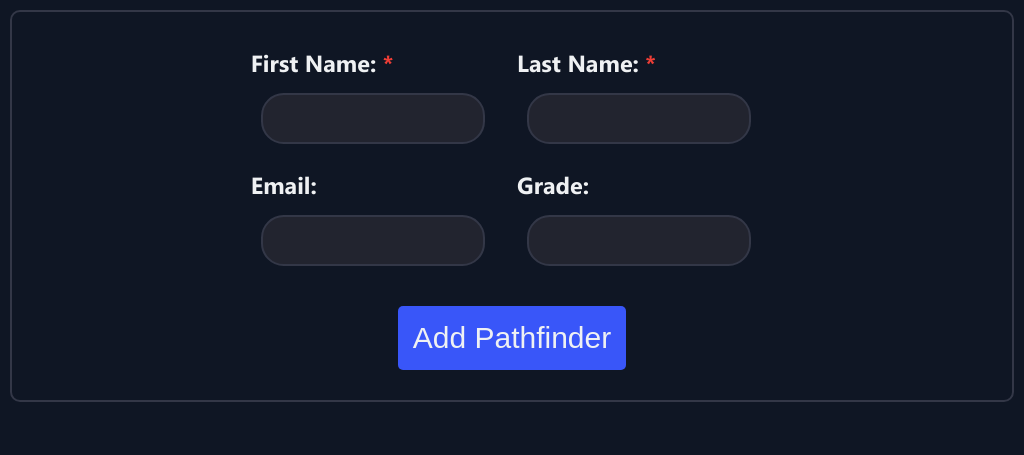
Test: CreatePathfinderForm › Form validation › should show error for invalid email
Type "John" into the field below "First Name:".
click(373, 118); type("John")  # box [261,93,485,144]
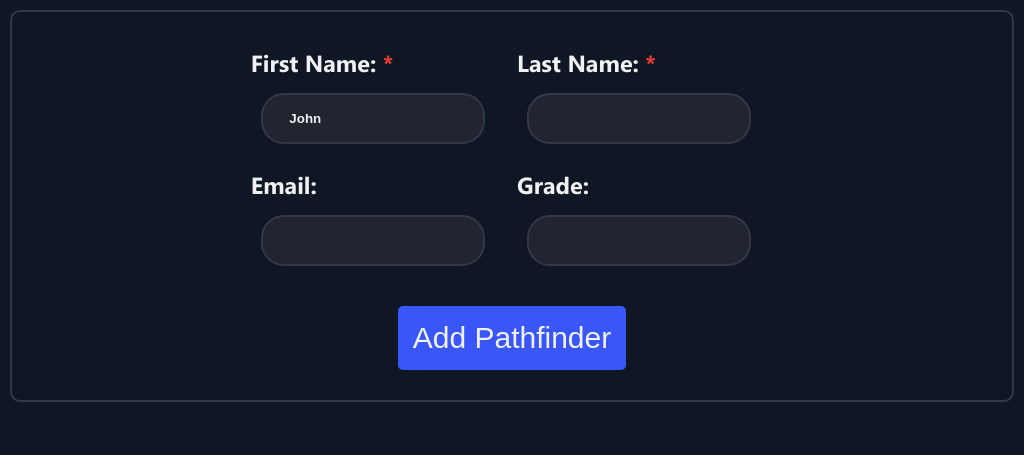
Type "Doe" into the field below "Last Name:".
click(639, 118); type("Doe")  # box [527,93,751,144]
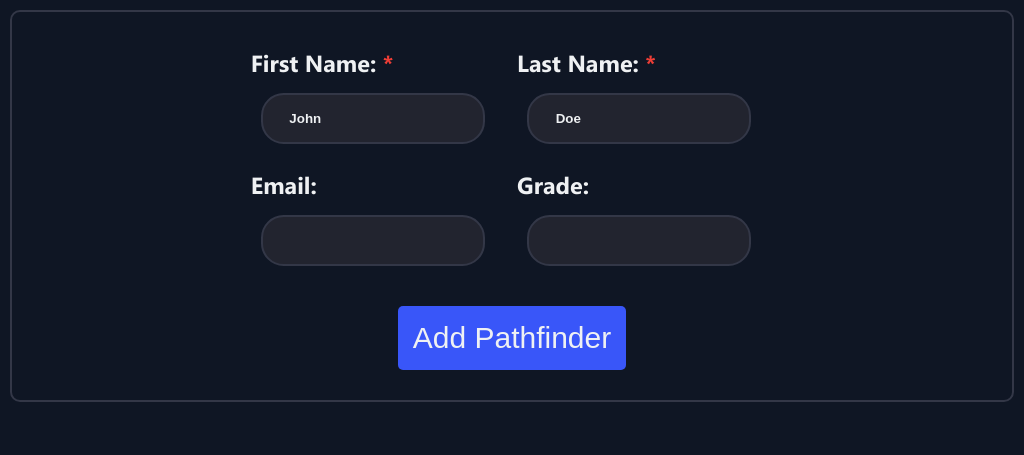
Type "invalid-email" into the field below "Email:".
click(373, 240); type("invalid-email")  # box [261,215,485,266]
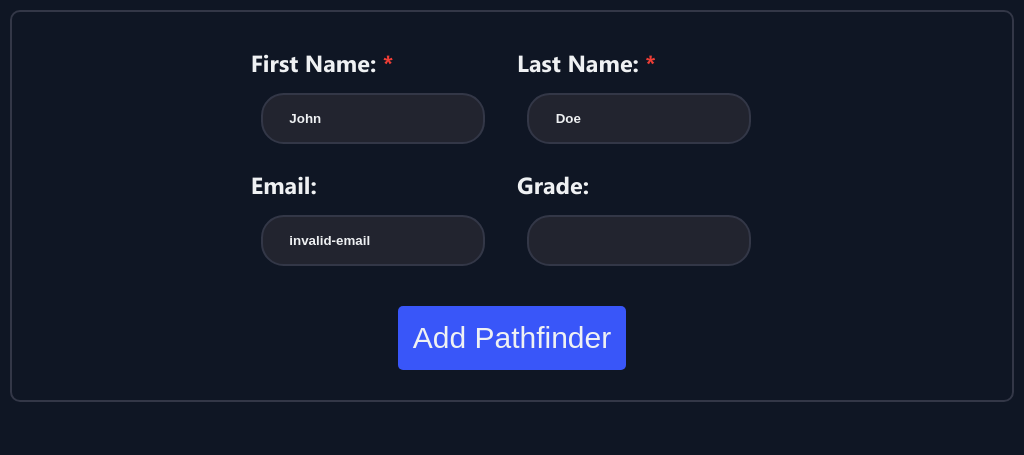
Type "8" into the field below "Grade:".
click(639, 240); type("8")  # box [527,215,751,266]
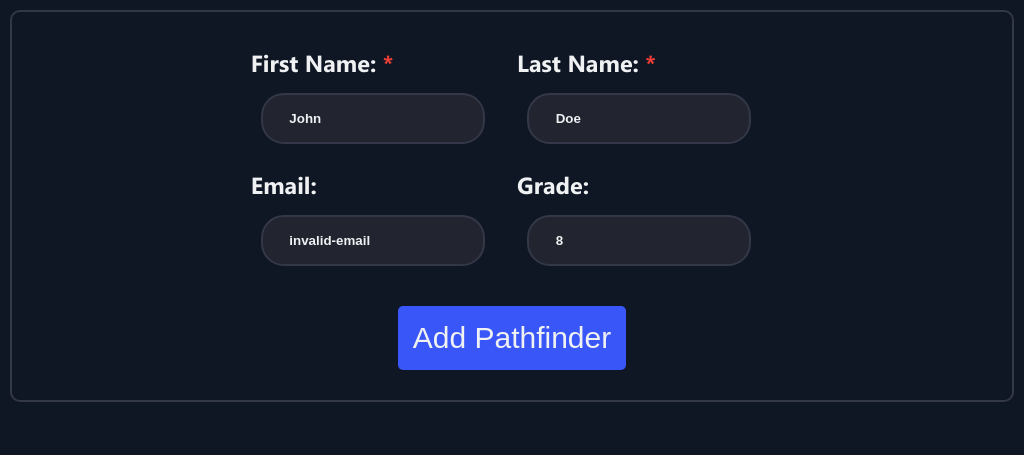
Submit the form, box [251,42,773,370]
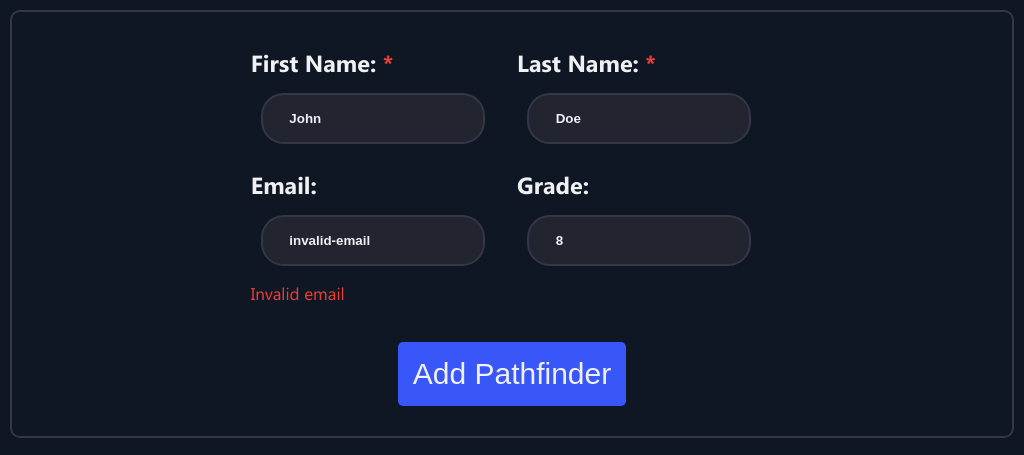
Check: the text "Invalid email" is shown, box [251,282,345,304]
